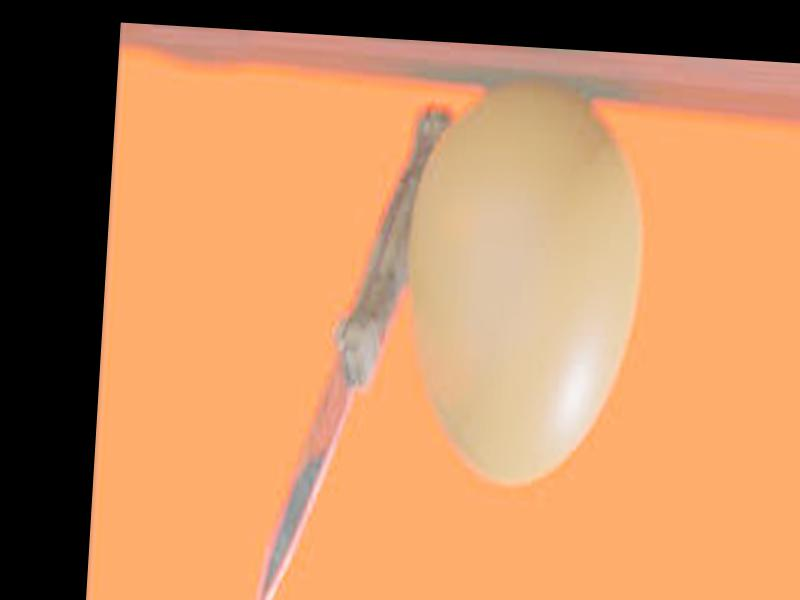Eggs: (397, 83, 647, 485)
